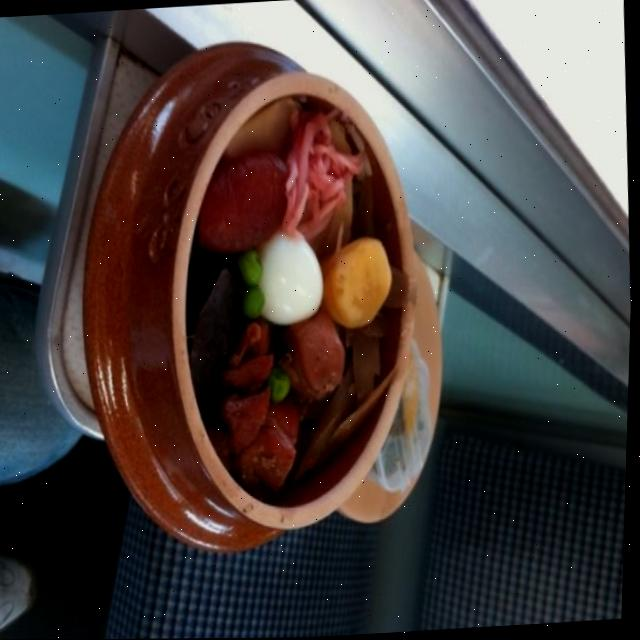烧串烤肉: (160, 155, 501, 567)
